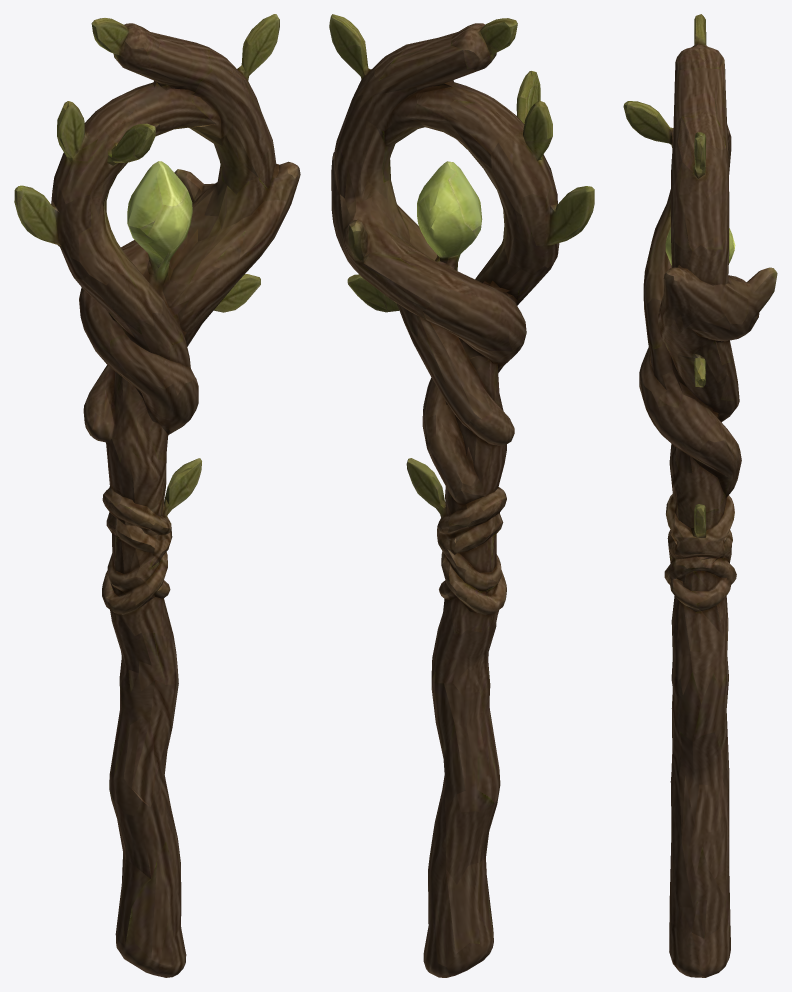
File: druid_staff.glb
The picture shows the model from 3 angles, left to right: view 1: azimuth 30°, elevation 25°; view 2: azimuth 150°, elevation 25°; view 3: azimuth 270°, elevation 25°; orthographic projection. The views are drawn at different scales.
Bounding box in the file's own units: 0.6316 × 2.15 × 0.324.
Materials: 1 (1 with a texture image).
